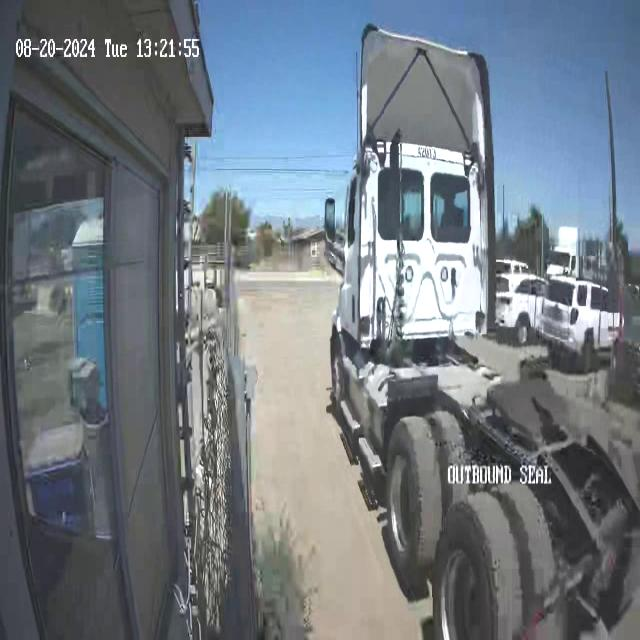BOBTAIL: (326, 23, 638, 637)
